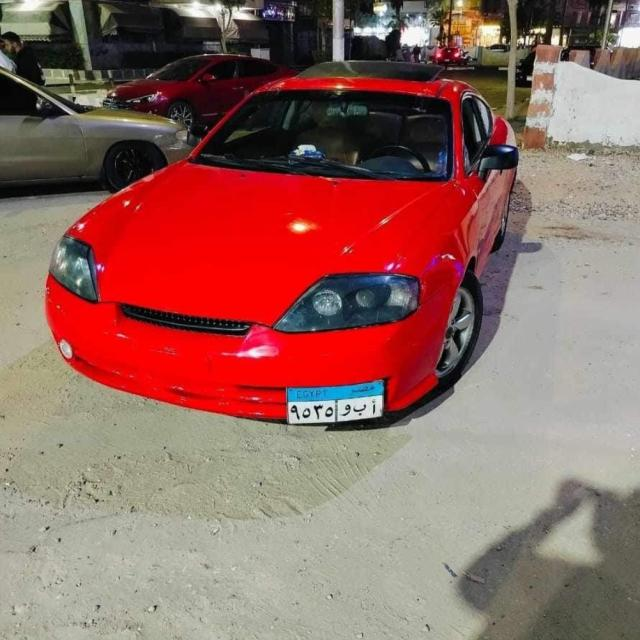car-plate: (290, 384, 384, 424)
